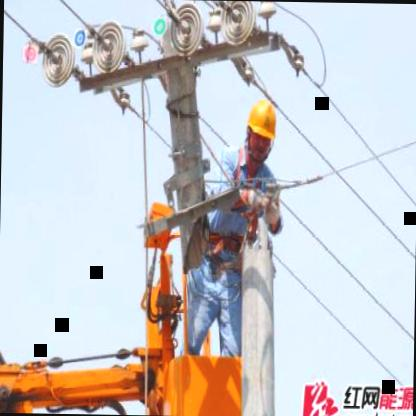helmet: (239, 88, 280, 173)
